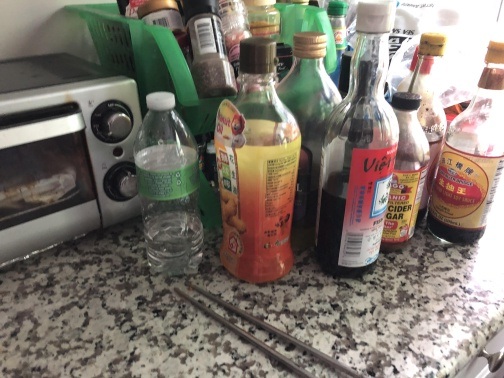bottle: (130, 89, 208, 280)
